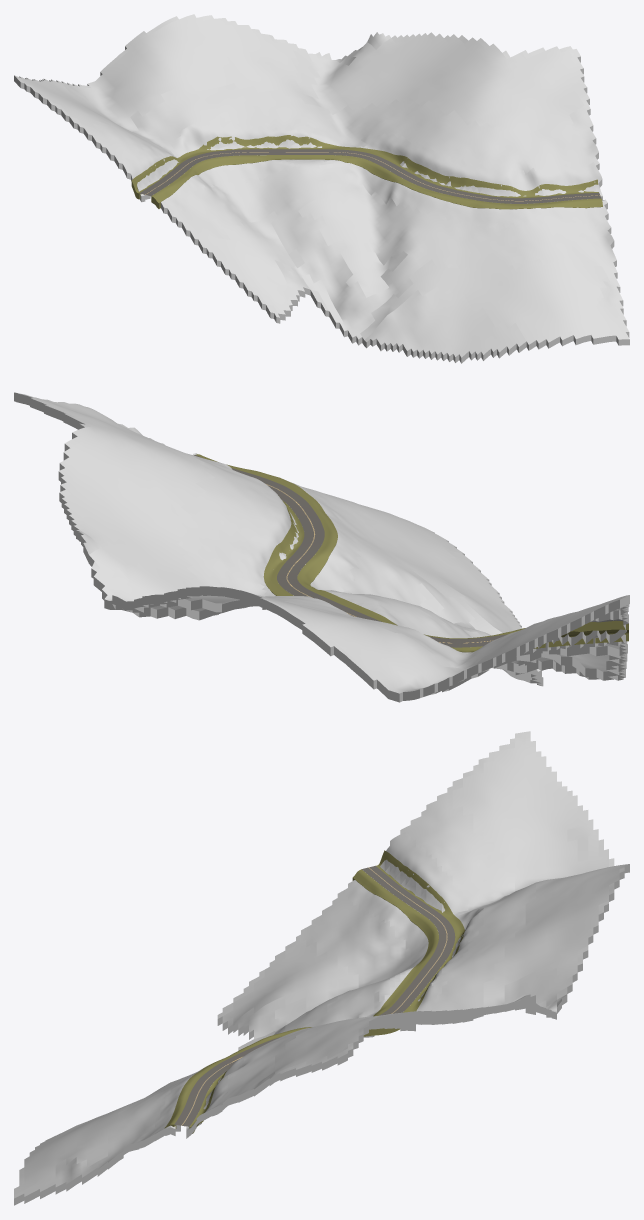
Rendered from conz_186.glb.
3 renders of one model, top to bottom at view 1: azimuth 30°, elevation 25°; view 2: azimuth 150°, elevation 25°; view 3: azimuth 270°, elevation 25°, orthographic. The views are drawn at different scales.
Parts seen in each view (by area): view 1: terrain186, verge186R, verge186L, road186; view 2: terrain186, road186, verge186L, verge186R; view 3: terrain186, road186, verge186L, verge186R.
Boxes of the visible parts, <box> form: terrain186: <box>14,14,629,363</box>; verge186R: <box>131,135,598,203</box>; verge186L: <box>151,155,602,209</box>; road186: <box>139,149,601,203</box>; terrain186: <box>14,392,629,702</box>; road186: <box>194,455,507,647</box>; verge186L: <box>196,454,525,638</box>; verge186R: <box>263,495,628,652</box>; terrain186: <box>14,731,629,1205</box>; road186: <box>174,866,455,1126</box>; verge186L: <box>164,869,438,1128</box>; verge186R: <box>189,850,465,1133</box>.
Size of the model in its own units: 254 by 107 by 236.
